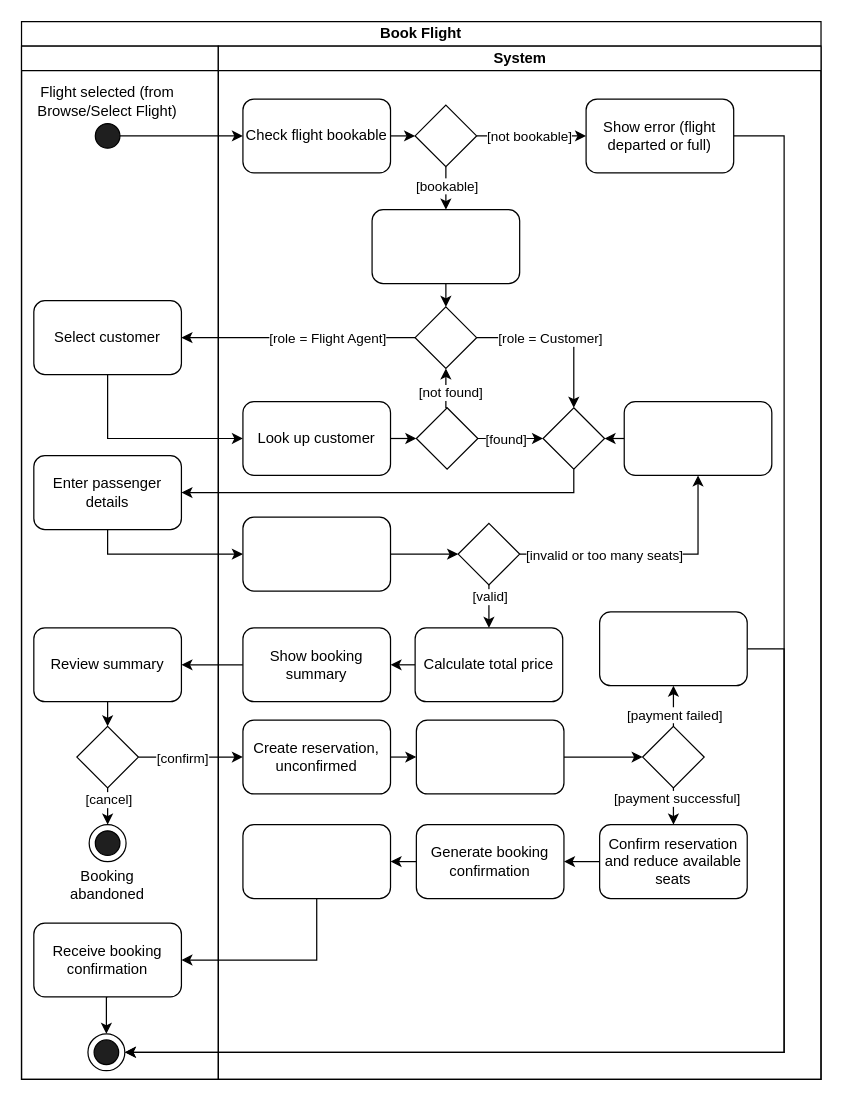
This 843x1101 diagram has some shape labels left out. Here are the shapes that lost their labels. From the top down, the box of each, then its label:
(371, 208, 520, 284): Check role
(623, 400, 772, 475): Show error
(20, 45, 218, 1079): User
(242, 516, 391, 591): Validate details and seat count
(598, 611, 747, 686): Show payment error, reservation stays unconfirmed
(415, 719, 564, 794): Make payment
(242, 823, 391, 899): Display booking confirmation
